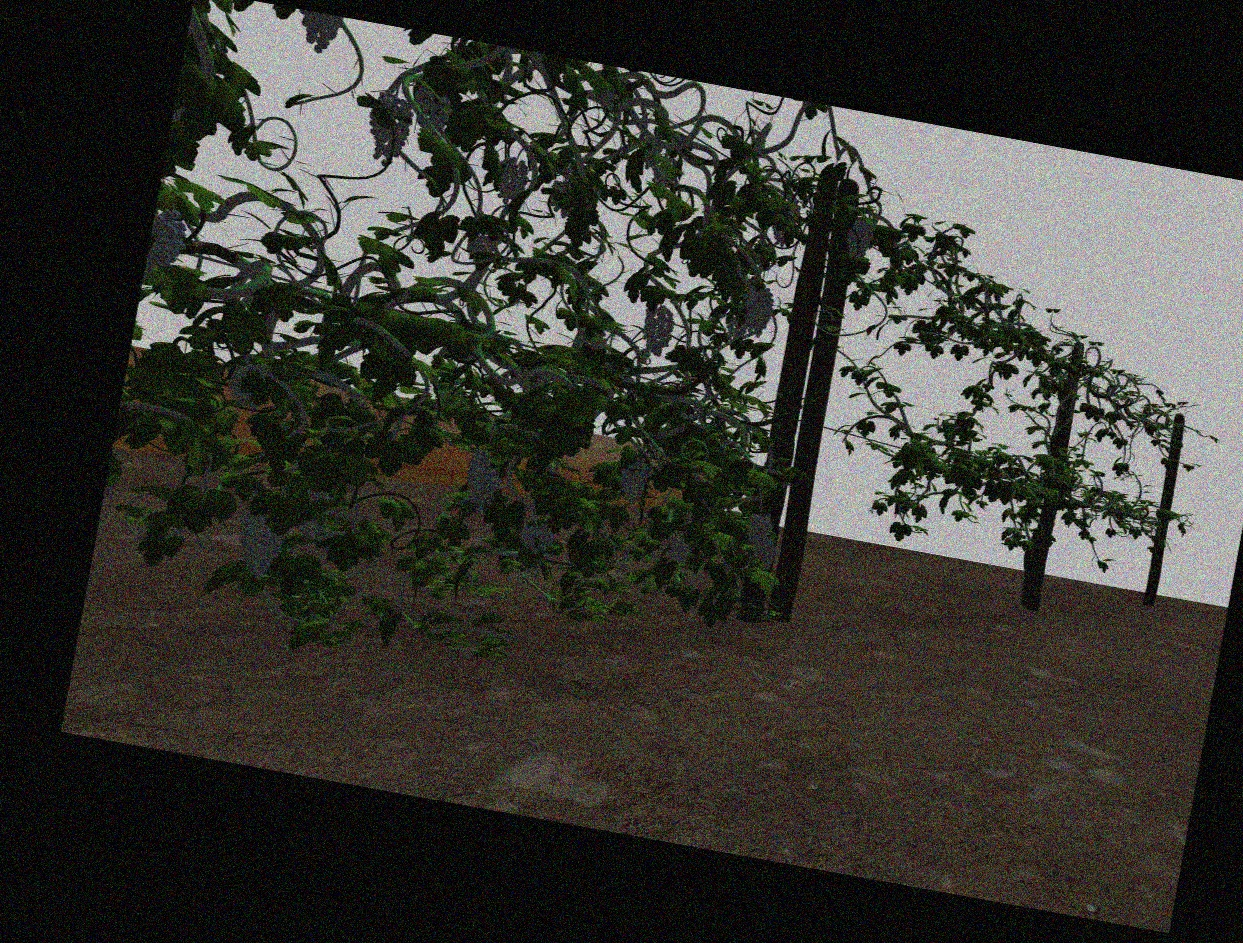grape: (235, 506, 283, 581), (368, 93, 410, 166), (151, 208, 186, 278), (463, 449, 501, 512), (411, 87, 451, 136), (741, 283, 774, 335), (641, 305, 674, 356), (617, 457, 649, 505), (496, 157, 527, 205), (517, 519, 552, 555), (845, 219, 873, 258), (745, 511, 772, 550), (660, 532, 693, 561), (752, 539, 775, 570)
